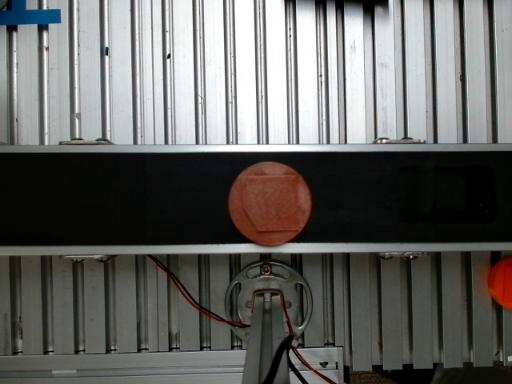Brown_Waper: (229, 162, 311, 245)
Not_Square: (241, 175, 300, 232)
